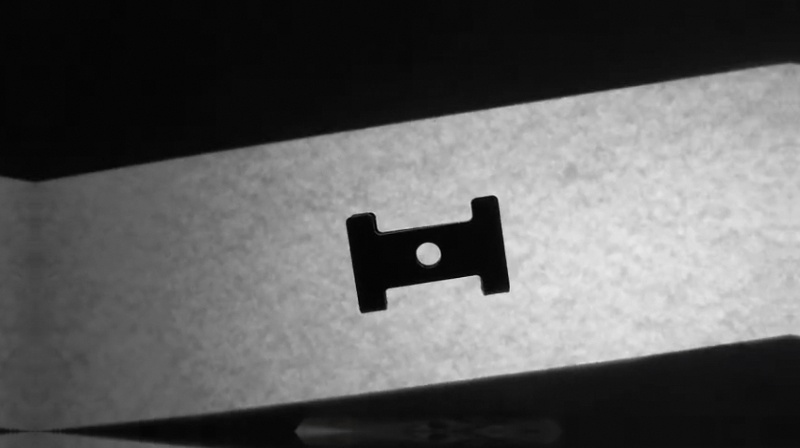O002: (343, 193, 512, 314)
